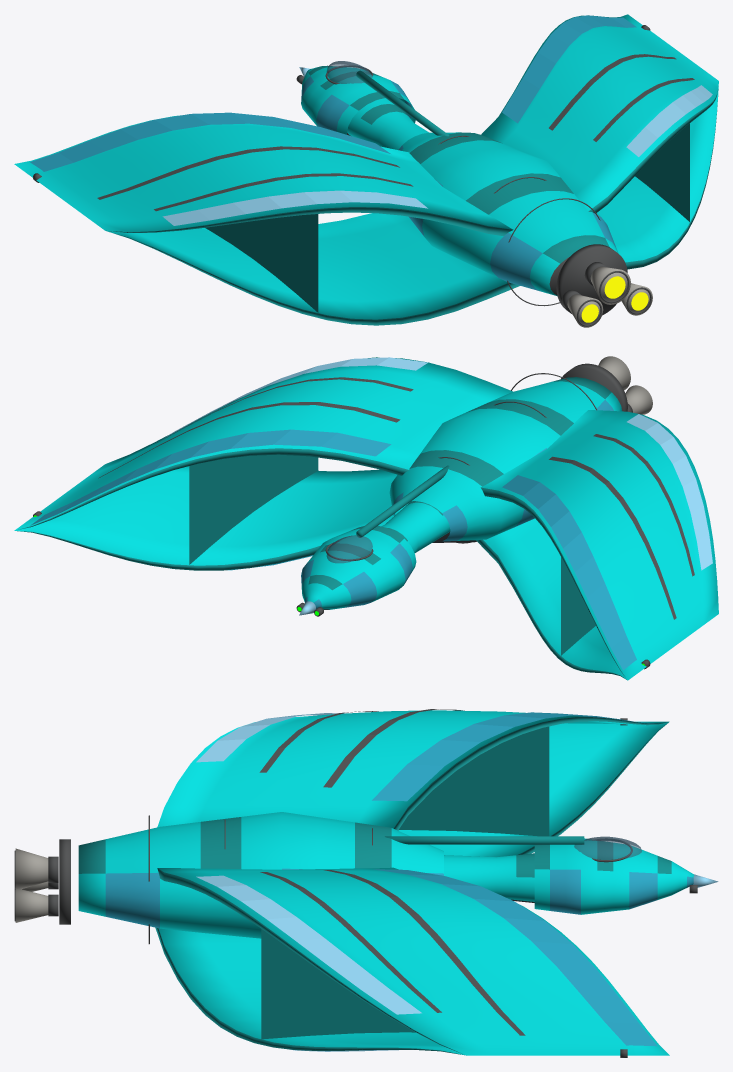
File: Ship_Talonhunter_337968.glb
3 views of the same model, one above another, from view 1: azimuth 30°, elevation 25°; view 2: azimuth 150°, elevation 25°; view 3: azimuth 270°, elevation 25° (orthographic). The views are drawn at different scales.
Visible parts, largest first — view 1: WingUpper_Left_ForwardSweptCrescentPlate, WingUpper_Right_ForwardSweptCrescentPlate, WingLower_Left_ForwardSweptCrescentPlate, ReactorBody_AftOvalCore, WingLower_Right_ForwardSweptCrescentPlate, WingMidRib_Left_OpenGapSupportStrut, PaintFeatherLeadingEdge_Left_Upper, CommandHead_BeakedForwardPod, PaintFeatherTrailingEdge_Left_Upper, PaintFeatherLeadingEdge_Right_Upper, WingMidRib_Right_OpenGapSupportStrut, CommandNeck_NarrowForwardSpine (+11 smaller); view 2: WingUpper_Left_ForwardSweptCrescentPlate, WingUpper_Right_ForwardSweptCrescentPlate, WingLower_Right_ForwardSweptCrescentPlate, ReactorBody_AftOvalCore, WingLower_Left_ForwardSweptCrescentPlate, WingMidRib_Right_OpenGapSupportStrut, CommandHead_BeakedForwardPod, PaintFeatherLeadingEdge_Left_Upper, PaintFeatherLeadingEdge_Right_Upper, PaintFeatherTrailingEdge_Left_Upper, CommandNeck_NarrowForwardSpine, WingMidRib_Left_OpenGapSupportStrut (+10 smaller); view 3: WingUpper_Right_ForwardSweptCrescentPlate, WingUpper_Left_ForwardSweptCrescentPlate, ReactorBody_AftOvalCore, WingLower_Right_ForwardSweptCrescentPlate, WingMidRib_Left_OpenGapSupportStrut, WingLower_Left_ForwardSweptCrescentPlate, CommandHead_BeakedForwardPod, WingMidRib_Right_OpenGapSupportStrut, PaintFeatherLeadingEdge_Right_Upper, PaintFeatherTrailingEdge_Right_Upper, PaintFeatherLeadingEdge_Left_Upper, CommandNeck_NarrowForwardSpine (+9 smaller).
Boxes of the visible parts, x1,y1,x2,y2 form: WingUpper_Left_ForwardSweptCrescentPlate: [14, 115, 513, 236]; WingUpper_Right_ForwardSweptCrescentPlate: [481, 14, 718, 213]; WingLower_Left_ForwardSweptCrescentPlate: [105, 213, 520, 325]; ReactorBody_AftOvalCore: [398, 132, 618, 296]; WingLower_Right_ForwardSweptCrescentPlate: [597, 83, 718, 269]; WingMidRib_Left_OpenGapSupportStrut: [205, 214, 318, 312]; PaintFeatherLeadingEdge_Left_Upper: [30, 112, 390, 171]; CommandHead_BeakedForwardPod: [301, 65, 415, 135]; PaintFeatherTrailingEdge_Left_Upper: [162, 190, 427, 225]; PaintFeatherLeadingEdge_Right_Upper: [502, 15, 636, 123]; WingMidRib_Right_OpenGapSupportStrut: [635, 123, 689, 221]; CommandNeck_NarrowForwardSpine: [347, 98, 428, 149]; WingUpper_Left_ForwardSweptCrescentPlate: [480, 410, 718, 680]; WingUpper_Right_ForwardSweptCrescentPlate: [14, 357, 512, 530]; WingLower_Right_ForwardSweptCrescentPlate: [14, 466, 397, 570]; ReactorBody_AftOvalCore: [389, 377, 621, 542]; WingLower_Left_ForwardSweptCrescentPlate: [476, 518, 627, 680]; WingMidRib_Right_OpenGapSupportStrut: [189, 454, 318, 564]; CommandHead_BeakedForwardPod: [301, 525, 416, 609]; PaintFeatherLeadingEdge_Left_Upper: [502, 475, 636, 670]; PaintFeatherLeadingEdge_Right_Upper: [30, 429, 391, 525]; PaintFeatherTrailingEdge_Left_Upper: [627, 414, 712, 570]; CommandNeck_NarrowForwardSpine: [381, 501, 450, 552]; WingMidRib_Left_OpenGapSupportStrut: [561, 557, 595, 655]; WingUpper_Right_ForwardSweptCrescentPlate: [157, 867, 669, 1055]; WingUpper_Left_ForwardSweptCrescentPlate: [157, 710, 668, 830]; ReactorBody_AftOvalCore: [78, 812, 443, 938]; WingLower_Right_ForwardSweptCrescentPlate: [155, 927, 466, 1055]; WingMidRib_Left_OpenGapSupportStrut: [398, 726, 549, 836]; WingLower_Left_ForwardSweptCrescentPlate: [398, 721, 669, 856]; CommandHead_BeakedForwardPod: [534, 838, 694, 914]; WingMidRib_Right_OpenGapSupportStrut: [261, 929, 415, 1039]; PaintFeatherLeadingEdge_Right_Upper: [373, 869, 657, 1046]; PaintFeatherTrailingEdge_Right_Upper: [196, 875, 421, 1014]; PaintFeatherLeadingEdge_Left_Upper: [372, 712, 653, 801]; CommandNeck_NarrowForwardSpine: [444, 853, 534, 902].
Size of the model in its own units: 7.35 by 1.45 by 6.55.
